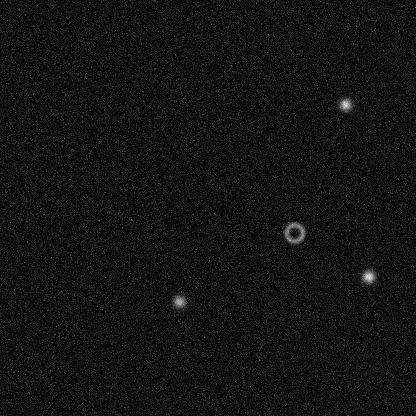Ring: (282, 220, 306, 244)
Spot: (171, 293, 187, 309), (360, 268, 376, 284), (337, 96, 353, 112)
